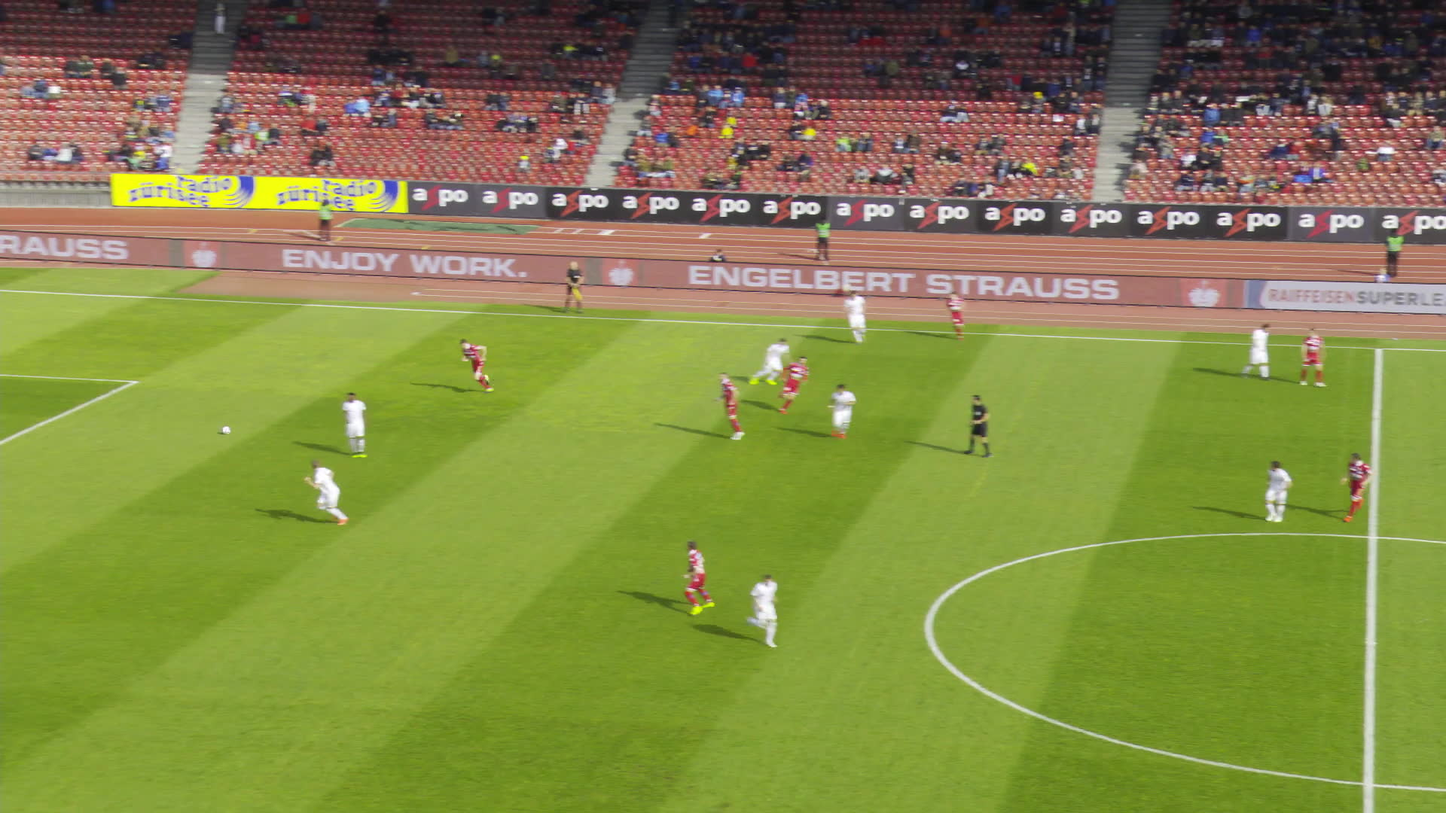ball: (224, 425, 230, 431)
player: (300, 457, 340, 531), (745, 571, 782, 647), (673, 531, 705, 614), (762, 352, 804, 414), (451, 336, 493, 394), (709, 373, 743, 442), (1285, 324, 1321, 387), (747, 337, 790, 388), (1337, 450, 1368, 520), (1251, 458, 1283, 525), (331, 391, 361, 461), (1234, 321, 1267, 382), (818, 383, 849, 442), (836, 288, 861, 346), (944, 287, 966, 337)
referee: (955, 392, 984, 458), (554, 259, 581, 313)
